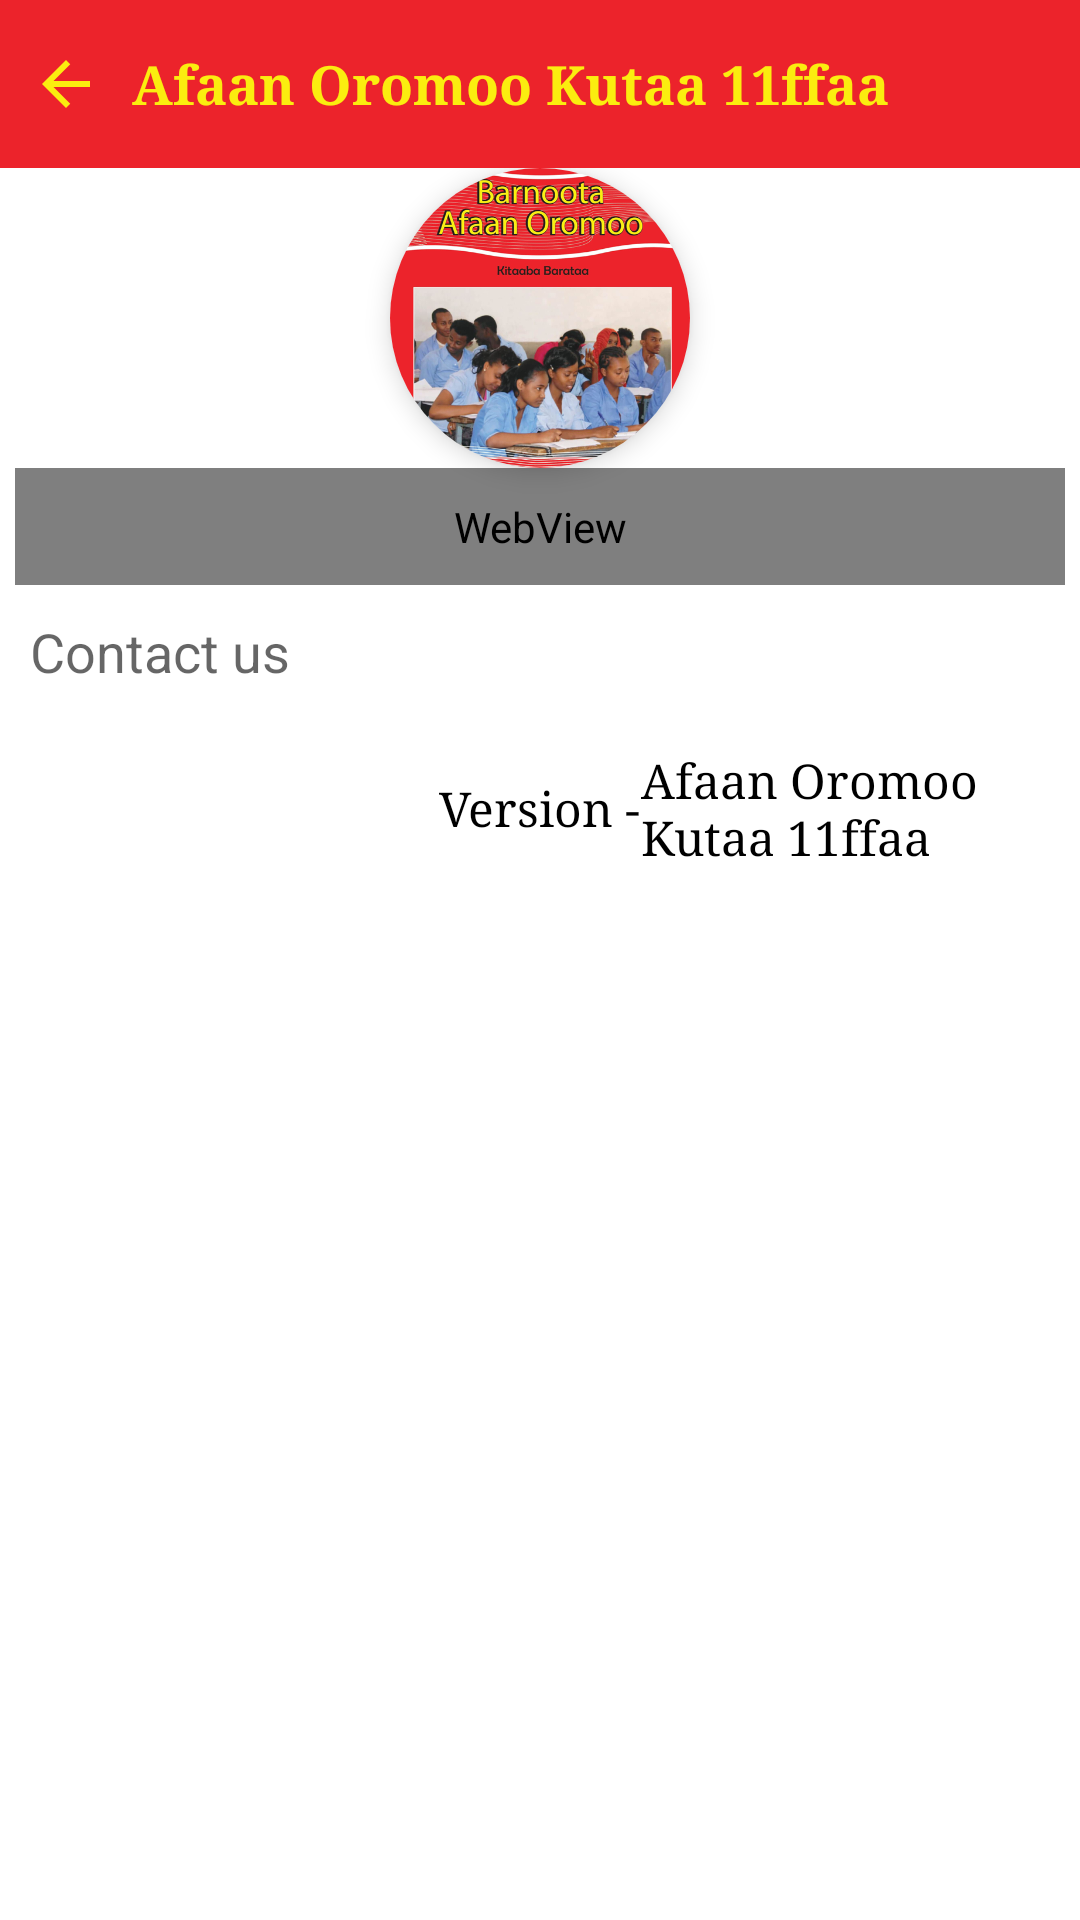

Where to tap for icons on this 1080×1920 app screen, as [x,y]:
arrow back: [66,84]
